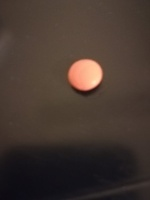Dolorex: (65, 57, 105, 94)
